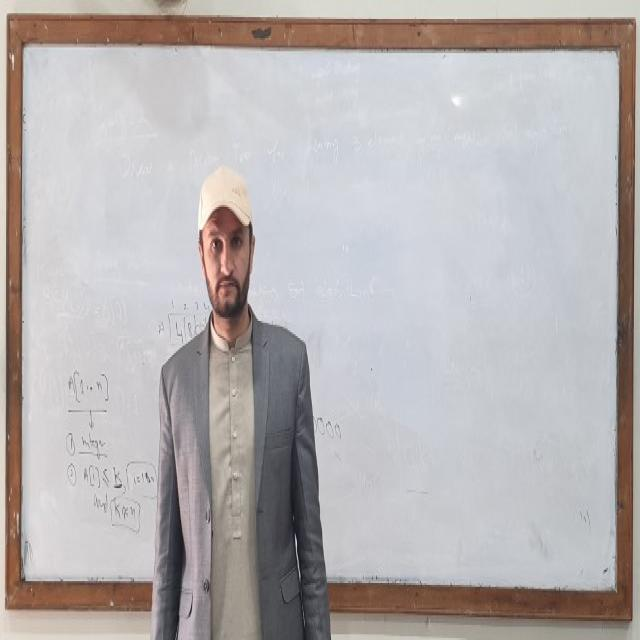Instructor: (155, 161, 306, 640)
White-board: (13, 30, 627, 603)
